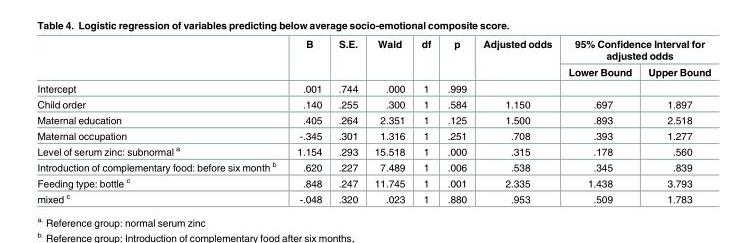table: (36, 37, 710, 204)
table column: (36, 37, 286, 204), (474, 37, 559, 204), (559, 37, 639, 204), (639, 37, 710, 204), (365, 37, 412, 204), (286, 37, 329, 204), (329, 37, 365, 204), (438, 37, 474, 204), (412, 37, 438, 204)
table column header: (36, 37, 710, 79)
table row: (36, 37, 710, 63), (36, 79, 710, 96), (36, 63, 710, 79), (36, 111, 710, 127), (36, 142, 710, 158), (36, 158, 710, 174), (36, 174, 710, 190), (36, 96, 710, 111), (36, 127, 710, 142), (36, 190, 710, 204)
table spanning cell: (559, 37, 710, 63), (474, 37, 559, 79), (365, 37, 412, 79), (286, 37, 329, 79), (329, 37, 365, 79), (438, 37, 474, 79), (412, 37, 438, 79)
